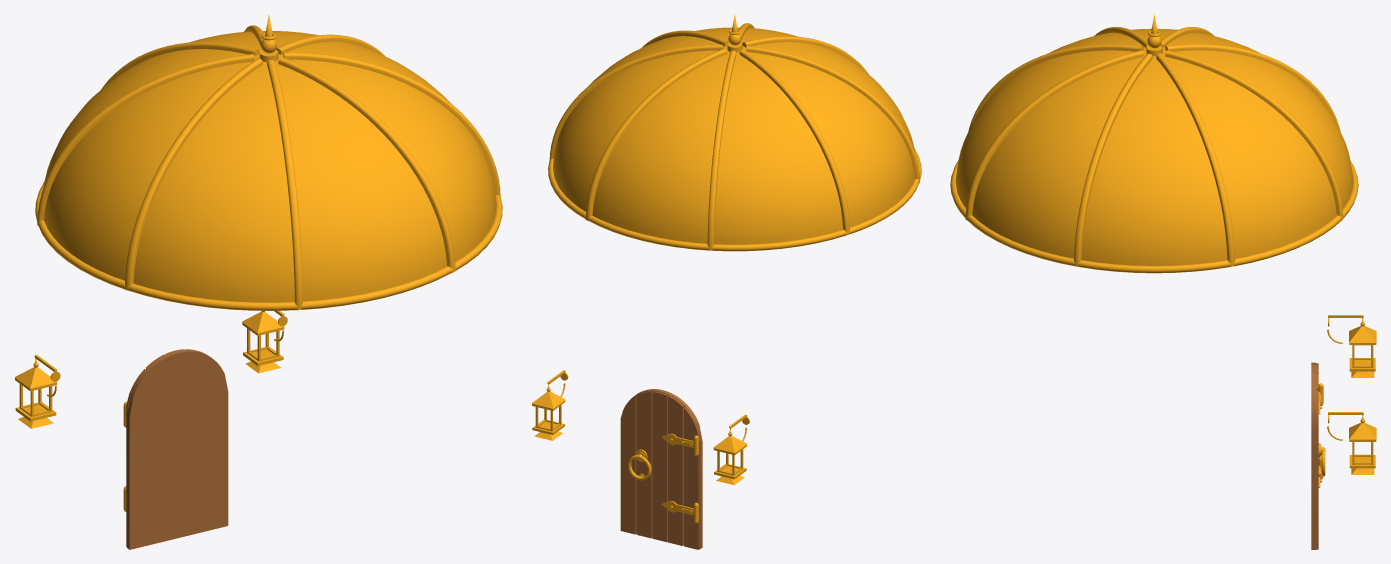
File: HaloDomeHouse_03_ornaments.glb
3 renders of one model, left to right at view 1: azimuth 30°, elevation 25°; view 2: azimuth 150°, elevation 25°; view 3: azimuth 270°, elevation 25°, orthographic. The views are drawn at different scales.
Visible parts, largest first — view 1: Orn_HaloDomeHouse_03_Dome, Orn_HaloDomeHouse_03_Leaf, Orn_HaloDomeHouse_03_Dome_Ribs, Orn_HaloDomeHouse_03_Lantern0, Orn_HaloDomeHouse_03_Lantern1; view 2: Orn_HaloDomeHouse_03_Dome, Orn_HaloDomeHouse_03_Leaf, Orn_HaloDomeHouse_03_Dome_Ribs, Orn_HaloDomeHouse_03_Lantern1, Orn_HaloDomeHouse_03_Lantern0; view 3: Orn_HaloDomeHouse_03_Dome, Orn_HaloDomeHouse_03_Dome_Ribs, Orn_HaloDomeHouse_03_Leaf, Orn_HaloDomeHouse_03_Lantern1, Orn_HaloDomeHouse_03_Lantern0.
Boxes of the visible parts, box(x1,y1,x2,y2) form: Orn_HaloDomeHouse_03_Dome: box(35, 15, 502, 310); Orn_HaloDomeHouse_03_Leaf: box(126, 349, 228, 549); Orn_HaloDomeHouse_03_Dome_Ribs: box(37, 25, 500, 309); Orn_HaloDomeHouse_03_Lantern0: box(14, 355, 60, 428); Orn_HaloDomeHouse_03_Lantern1: box(242, 310, 287, 373); Orn_HaloDomeHouse_03_Dome: box(548, 14, 921, 251); Orn_HaloDomeHouse_03_Leaf: box(620, 389, 702, 549); Orn_HaloDomeHouse_03_Dome_Ribs: box(549, 23, 919, 250); Orn_HaloDomeHouse_03_Lantern1: box(531, 370, 568, 440); Orn_HaloDomeHouse_03_Lantern0: box(713, 414, 749, 484); Orn_HaloDomeHouse_03_Dome: box(950, 14, 1358, 273); Orn_HaloDomeHouse_03_Dome_Ribs: box(965, 27, 1343, 266); Orn_HaloDomeHouse_03_Leaf: box(1311, 362, 1318, 549); Orn_HaloDomeHouse_03_Lantern1: box(1327, 412, 1376, 474); Orn_HaloDomeHouse_03_Lantern0: box(1327, 315, 1376, 377).
Size of the model in its own units: 17.64 by 24.55 by 18.42.
